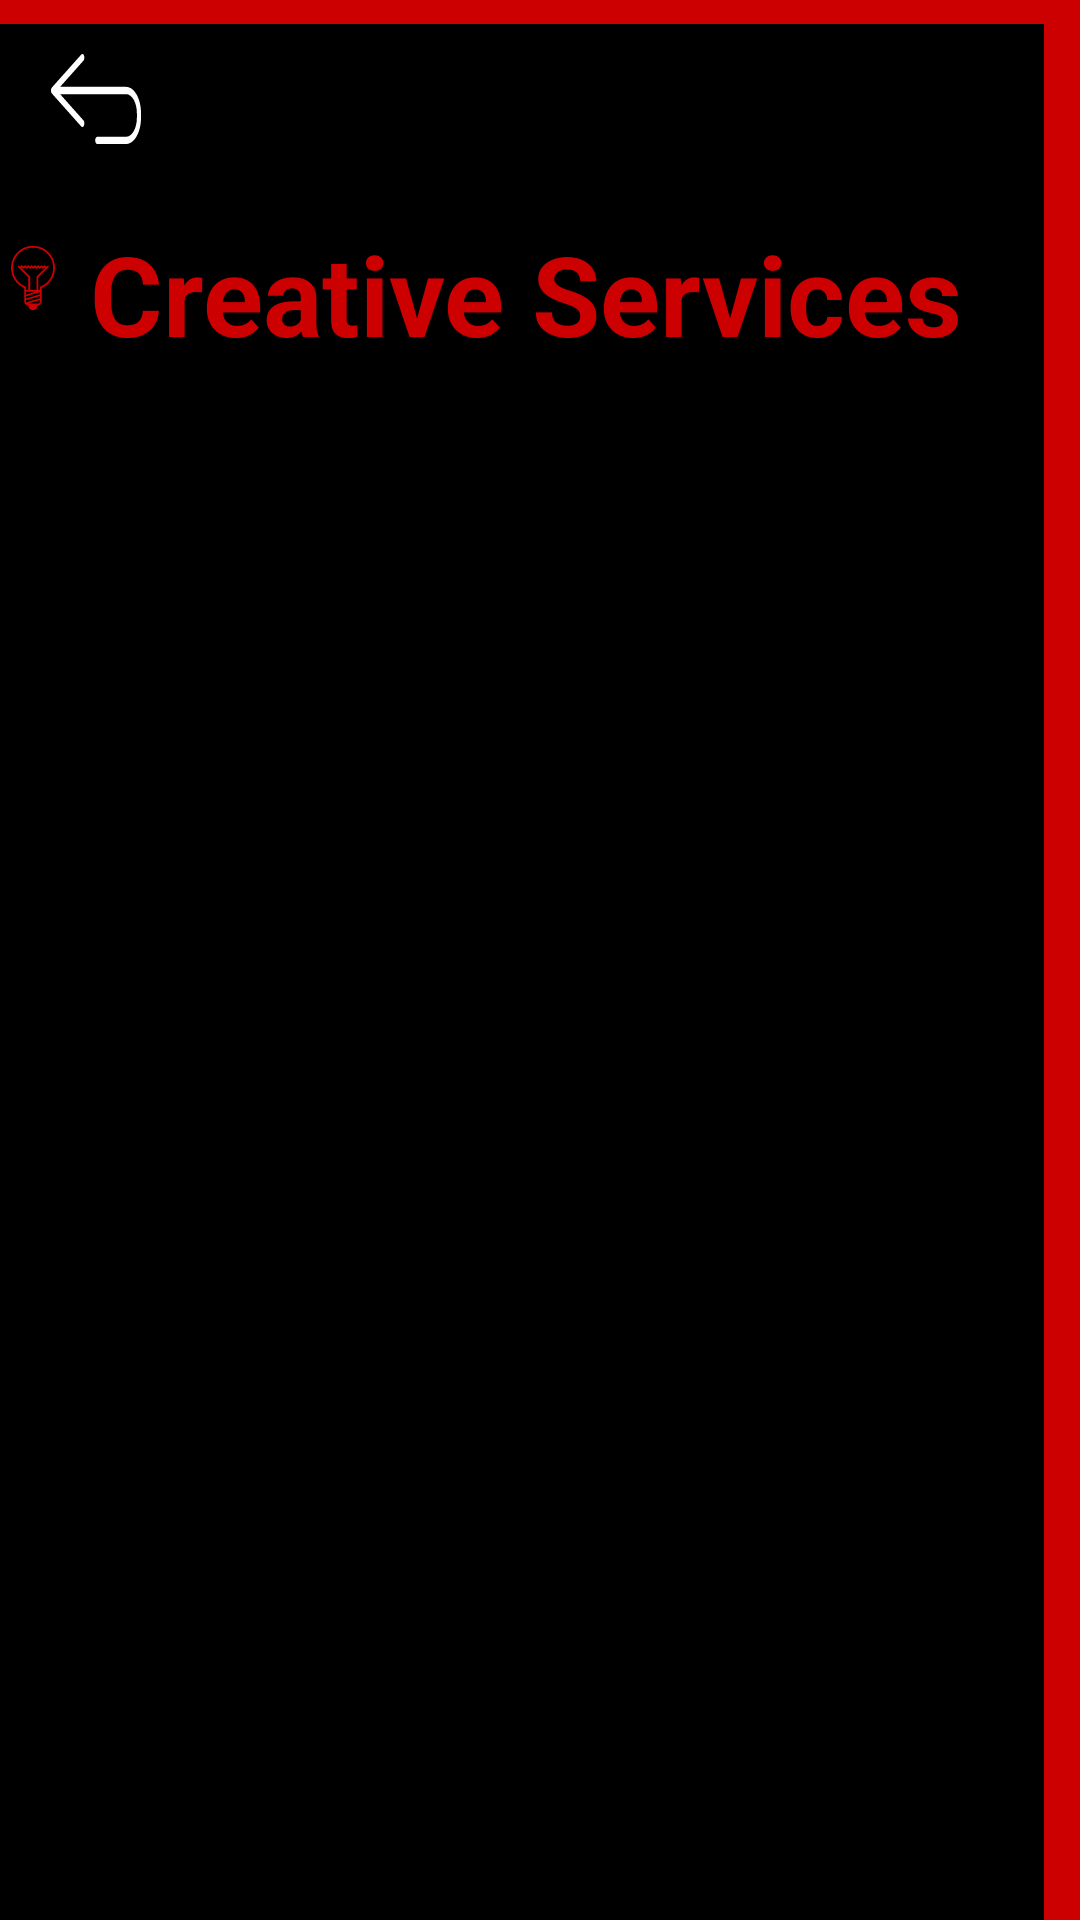

Icons on this 1080*1920 Android screen, each with the point to tap as point (x, y):
back: point (96, 99)
lightbulb: point (33, 277)
